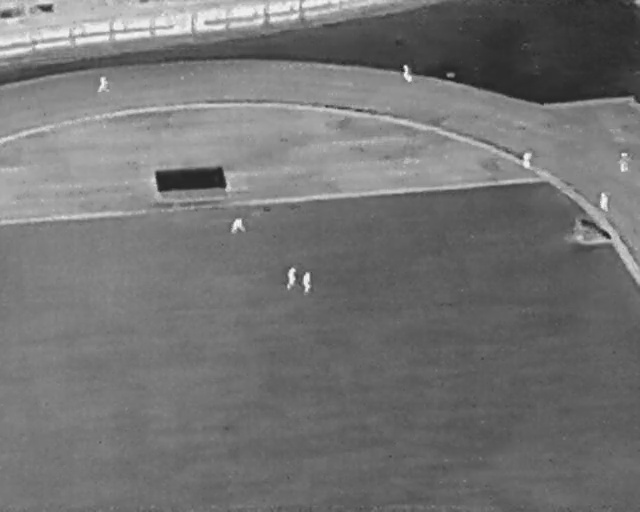Person: (231, 217, 246, 234), (97, 76, 110, 93), (619, 152, 629, 173), (287, 267, 296, 290), (303, 272, 312, 294), (600, 192, 609, 212), (403, 64, 412, 83), (522, 151, 532, 168)
